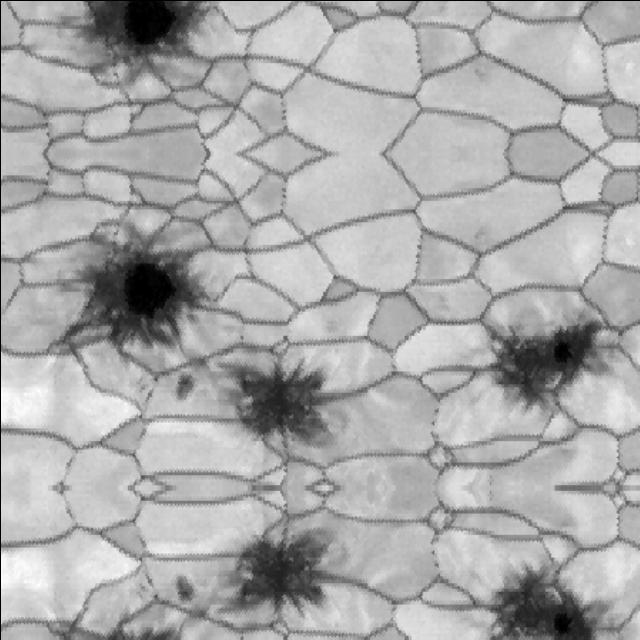good_void: (64, 246, 203, 359), (214, 337, 331, 455), (214, 521, 331, 639), (481, 316, 612, 412), (481, 564, 612, 640), (68, 0, 203, 60), (171, 370, 202, 400), (171, 576, 202, 606), (129, 374, 149, 395), (129, 581, 149, 602), (108, 225, 123, 239), (108, 67, 123, 81), (234, 332, 247, 342), (234, 634, 247, 640)
